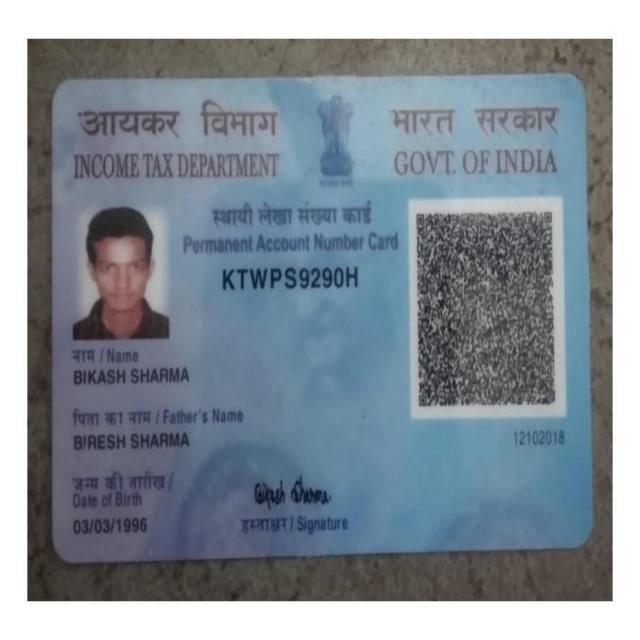pan_card: (55, 71, 587, 553)
